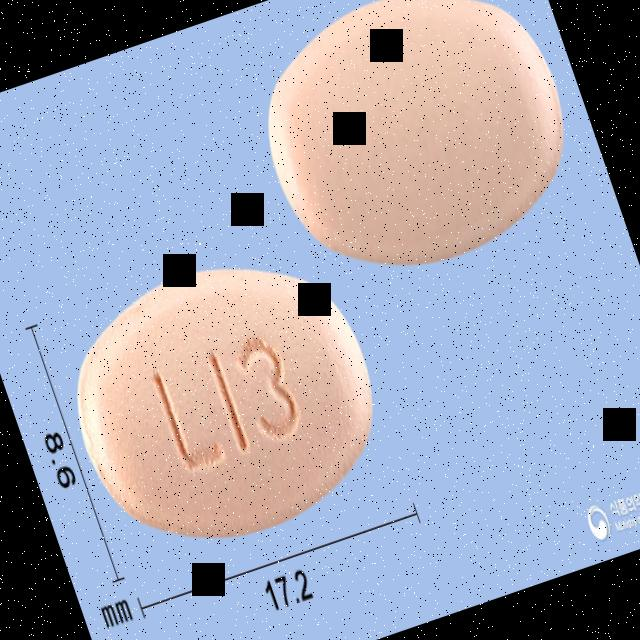Levoable: (43, 226, 406, 574)
